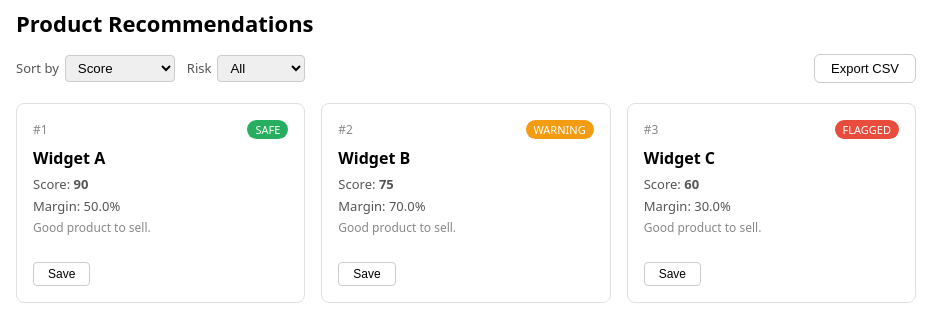
Scenario: AC 5 — Save button › save button changes to "Saved" after click
Click the 1st button "Save". click: point(62, 274)
box: x1=33 y1=262 x2=90 y2=286
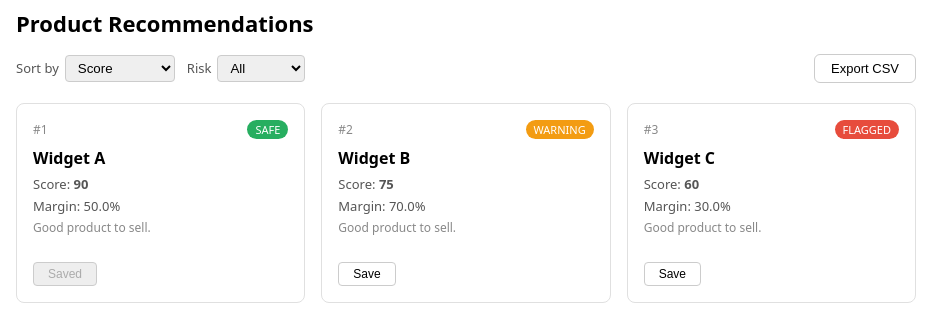
Expected: the button "Saved" is shown, x1=33 y1=262 x2=97 y2=286
